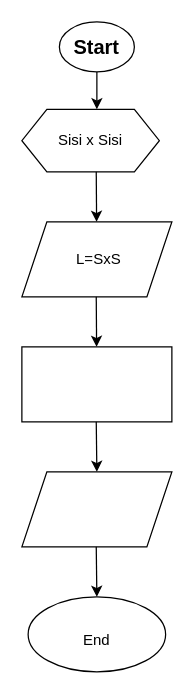
This 194x694 diagram has some shape labels left out. Here are the shapes that lost their labels. From the top down, the centre of each, then its label:
At [96,384]: "L=32x24".
At [96,509]: "L=768".
